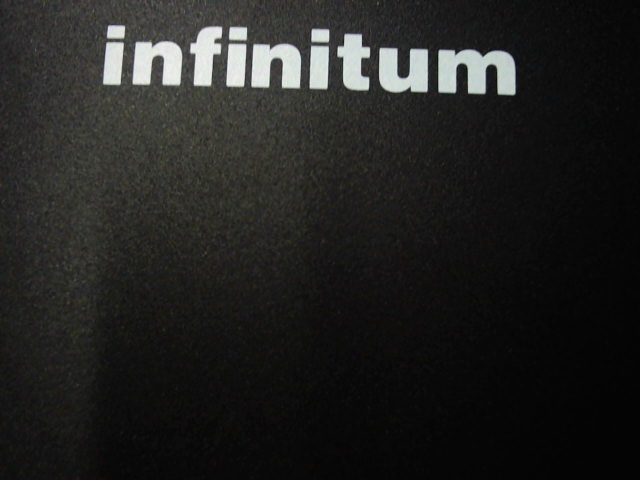BK_infinitum: (95, 21, 523, 114)
